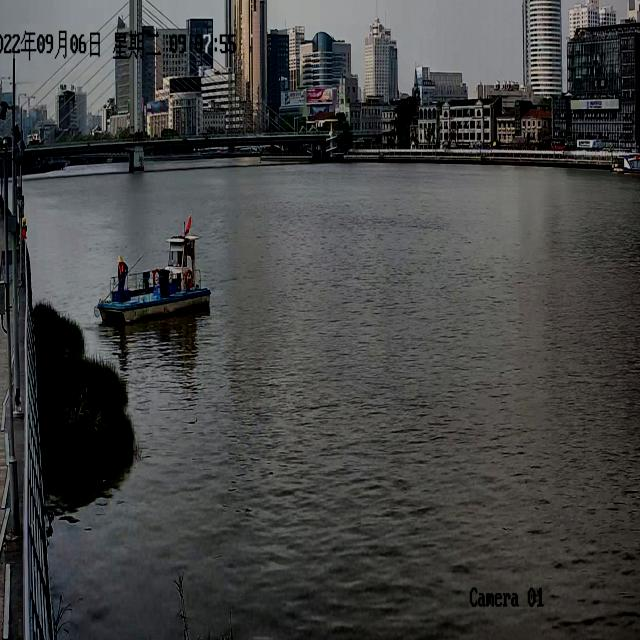ship: (98, 206, 211, 322)
